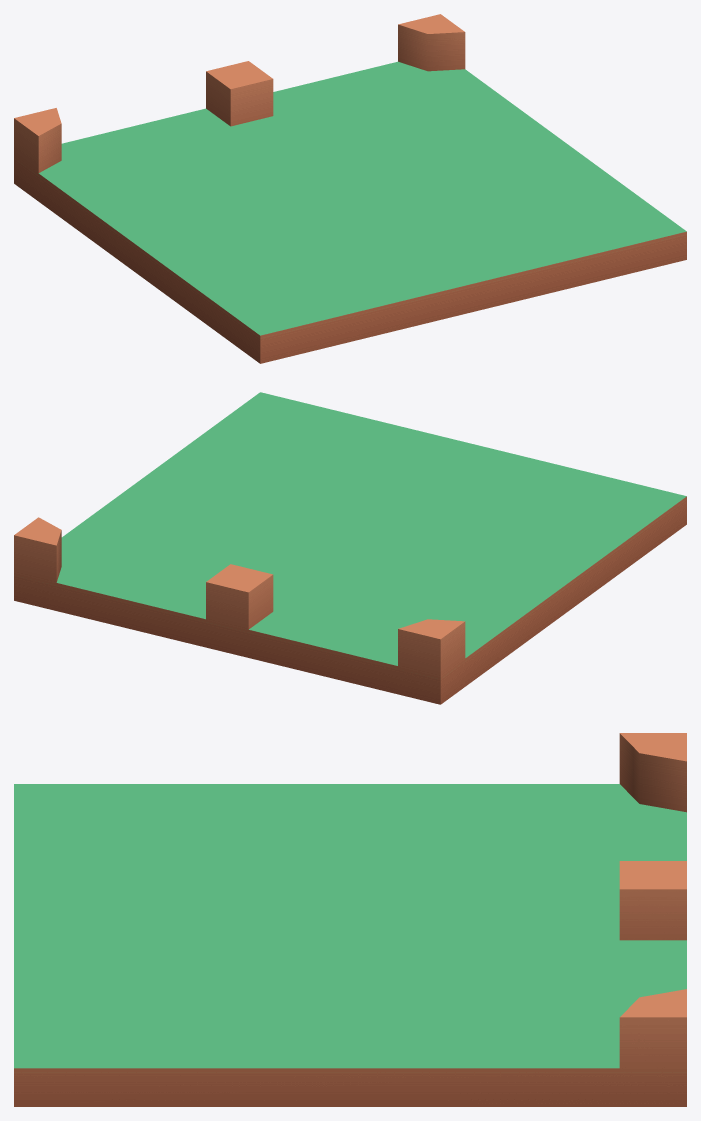
The model's file is split-walls-to-open.glb.
3 renders of one model, top to bottom at view 1: azimuth 30°, elevation 25°; view 2: azimuth 150°, elevation 25°; view 3: azimuth 270°, elevation 25°, orthographic. The views are drawn at different scales.
Parts seen in each view (by area): view 1: split-walls-to-open; view 2: split-walls-to-open; view 3: split-walls-to-open.
Part boxes in pixels (x1,y1,x2,y2): split-walls-to-open: [14, 14, 686, 363]; split-walls-to-open: [14, 392, 686, 704]; split-walls-to-open: [14, 733, 686, 1106].
Size of the model in its own units: 0.9999 by 0.1467 by 0.9999.
1 material, 1 textured.
